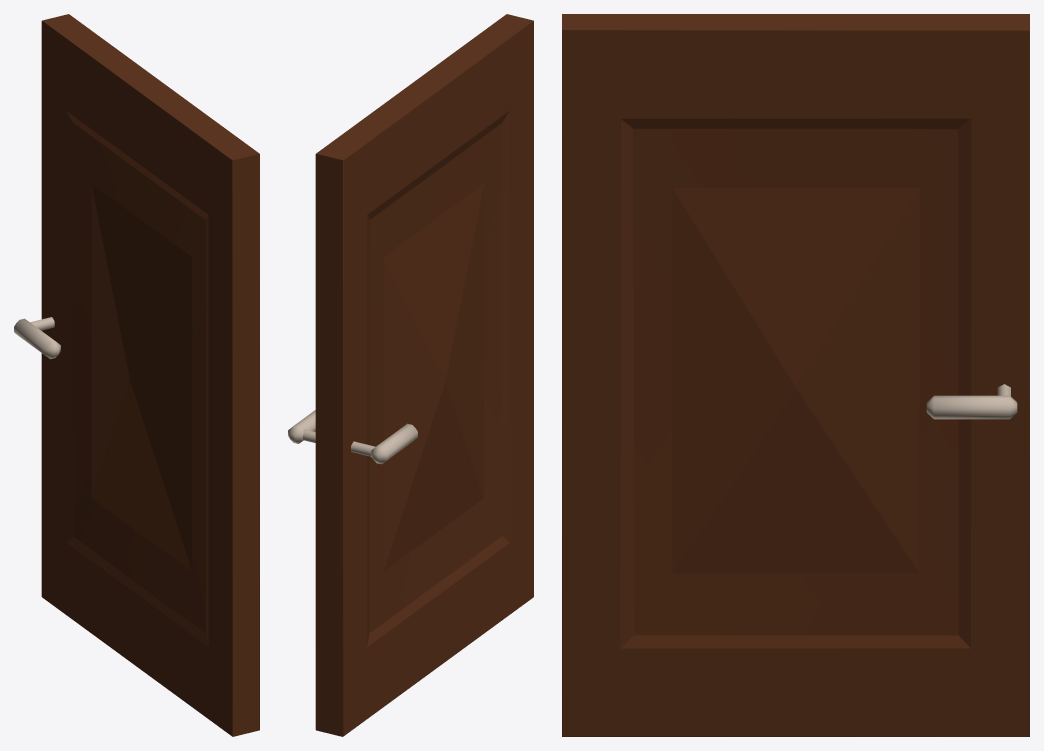
The model's file is door_1.fbx.
The picture shows the model from 3 angles, left to right: view 1: azimuth 30°, elevation 25°; view 2: azimuth 150°, elevation 25°; view 3: azimuth 270°, elevation 25°; orthographic projection. The views are drawn at different scales.
Visible parts, largest first — view 1: door_1; view 2: door_1; view 3: door_1.
Boxes of the visible parts, x1=… form: door_1: x1=14, y1=14, x2=259, y2=736; door_1: x1=288, y1=14, x2=533, y2=736; door_1: x1=562, y1=14, x2=1029, y2=736.
Size of the model in its own units: 35.97 by 200 by 120.
Materials: 1 (1 with a texture image).
